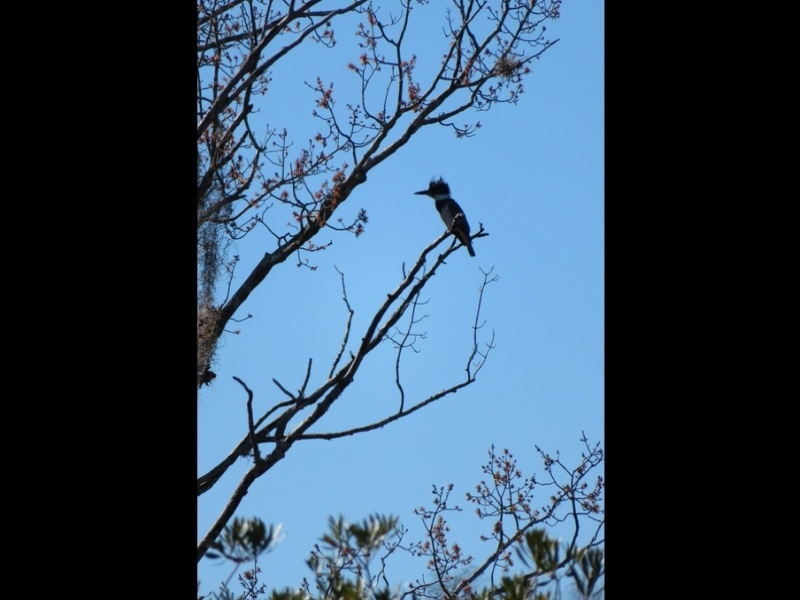kingfisher: (412, 175, 478, 259)
